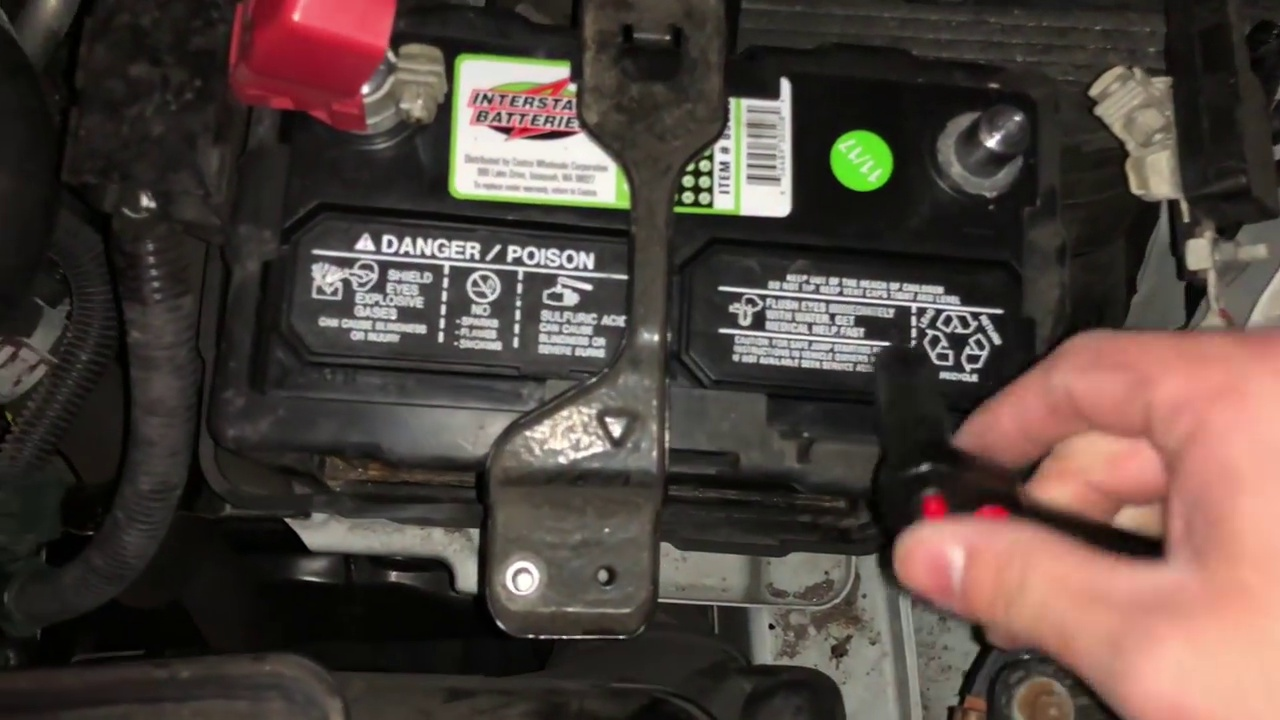battery: (232, 5, 1053, 446)
neg_disconnected: (902, 75, 1091, 204)
pos_connected: (226, 11, 475, 154)
